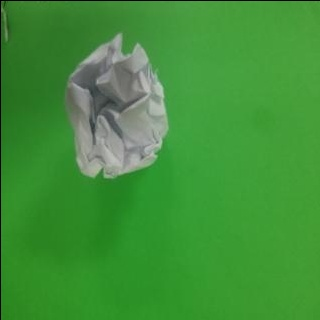8/可回收垃圾/纸: (64, 31, 168, 179)
